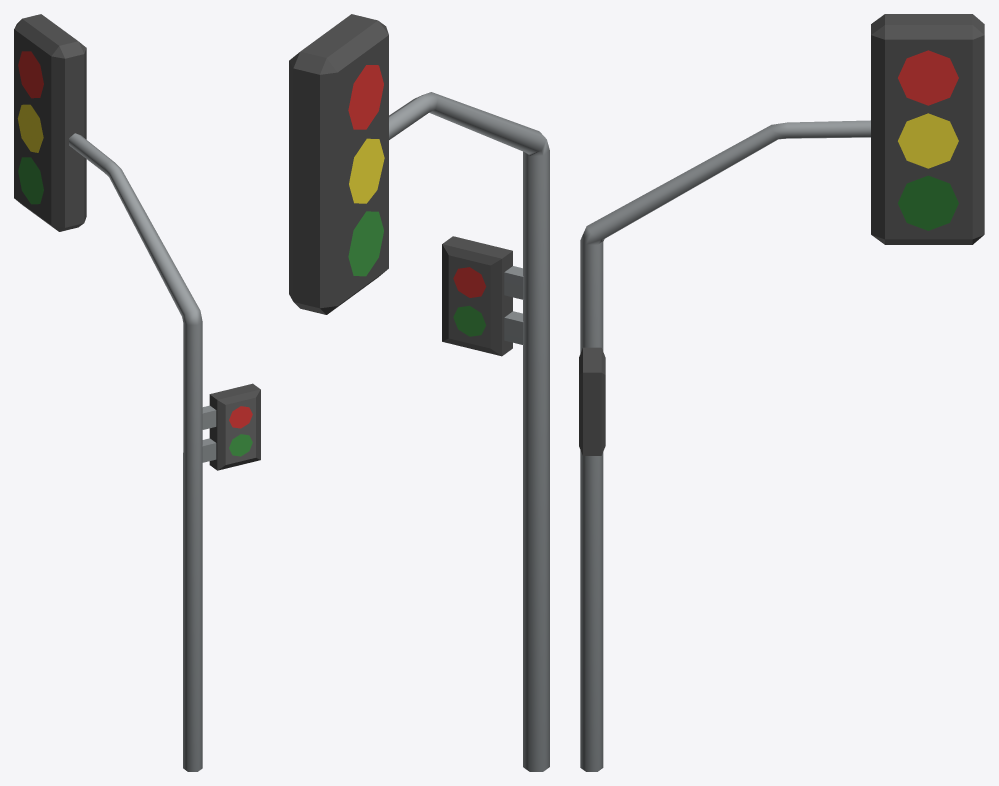
The model's file is Signal.fbx.
The picture shows the model from 3 angles, left to right: view 1: azimuth 30°, elevation 25°; view 2: azimuth 150°, elevation 25°; view 3: azimuth 270°, elevation 25°; orthographic projection. The views are drawn at different scales.
Visible parts, largest first — view 1: Signal; view 2: Signal; view 3: Signal.
Part boxes in pixels (left/top/right/bottom): Signal: left=14, top=14, right=260, bottom=771; Signal: left=289, top=14, right=549, bottom=771; Signal: left=579, top=14, right=984, bottom=771.
Bounding box in the file's own units: 0.193 × 1.4 × 0.686.
